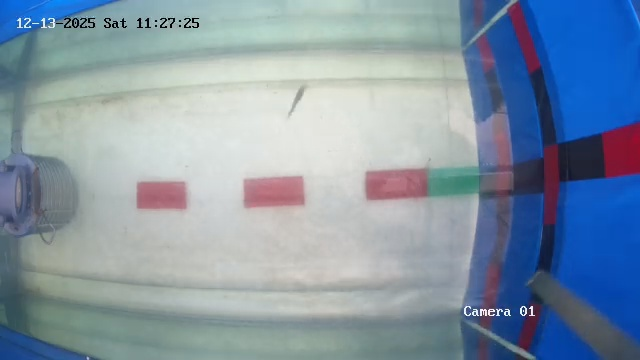fish: (281, 68, 317, 124)
